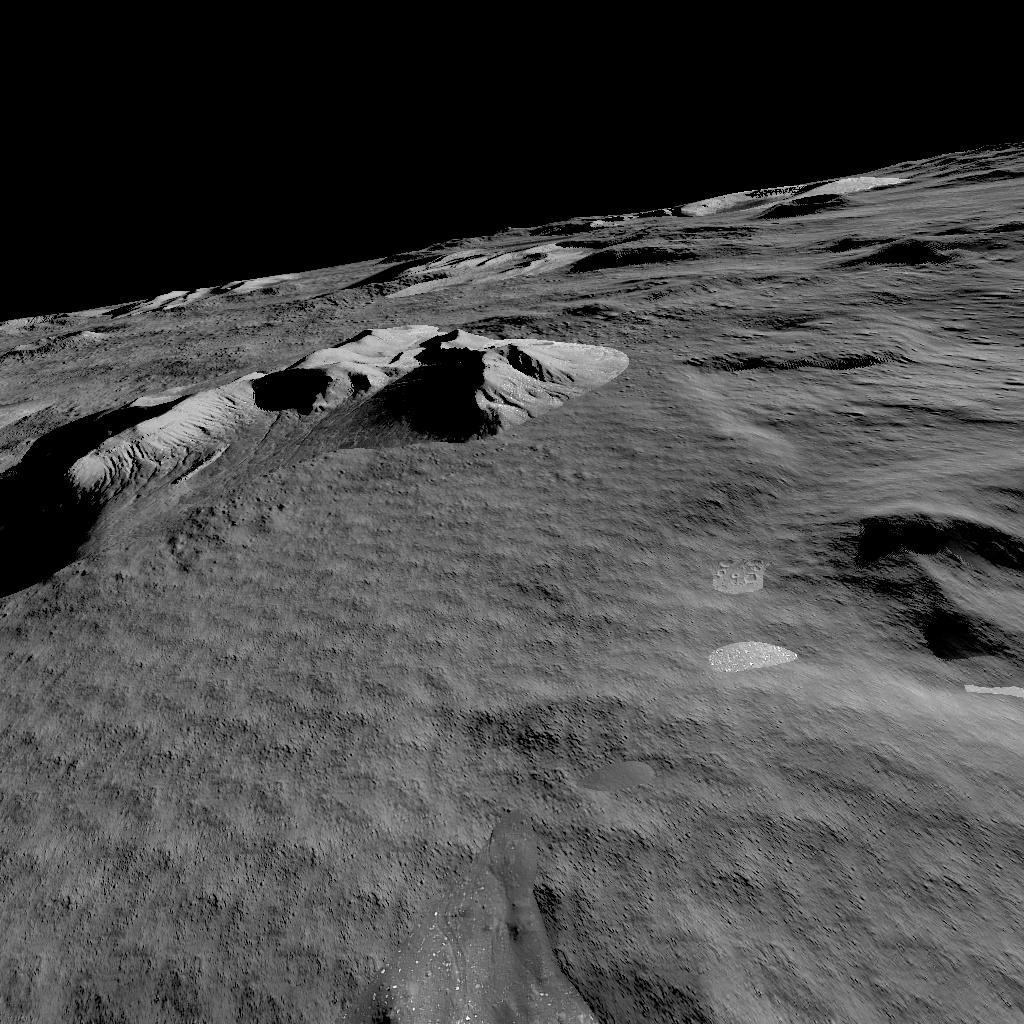Boulders: (0, 322, 640, 556), (358, 170, 970, 302), (108, 270, 274, 309)
Crater: (852, 494, 1020, 670), (1, 997, 1024, 1024), (676, 330, 928, 400)
Plan surface: (2, 590, 826, 974)
